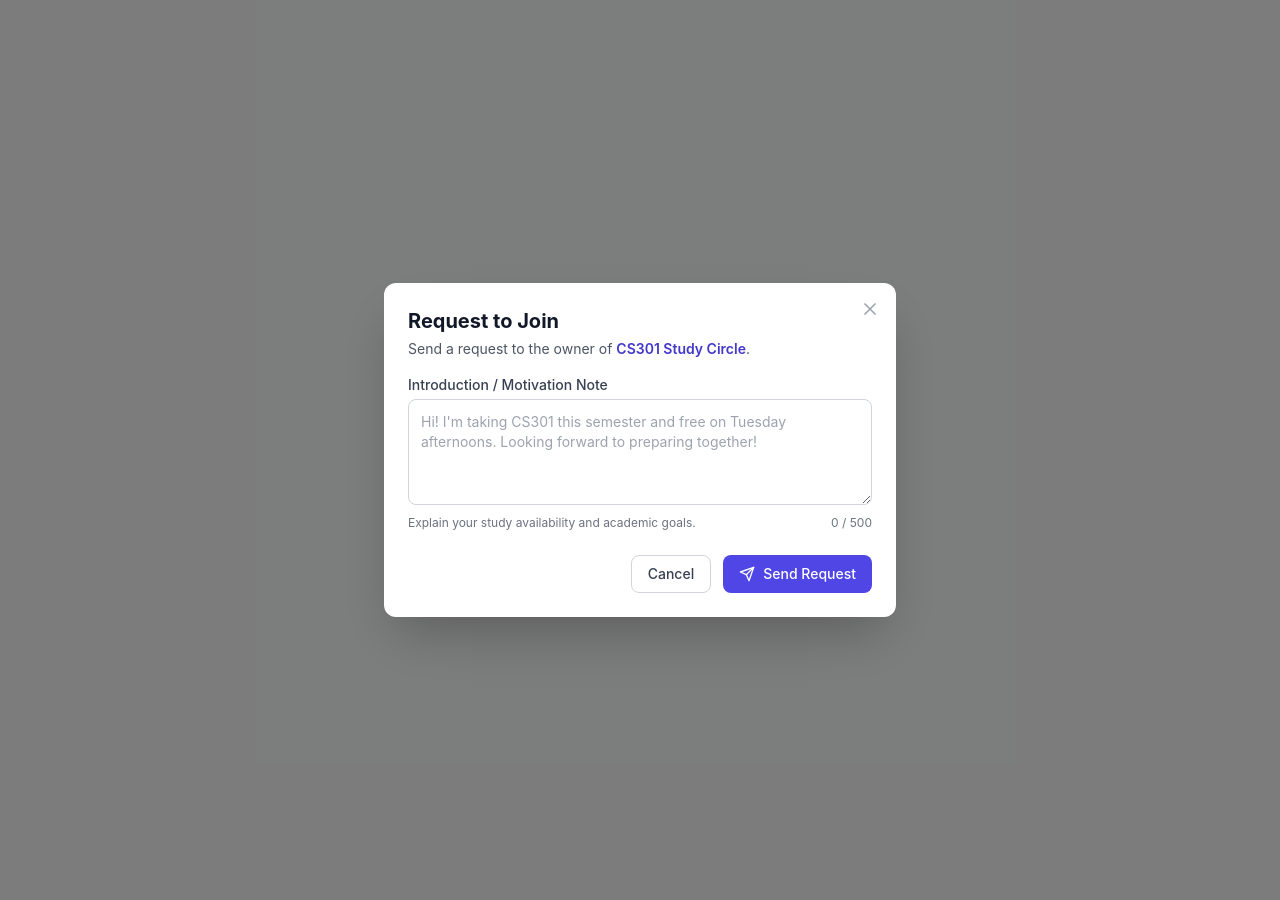
Test: Member 1 Frontend Components (Sprint 2) › JoinRequestModal › tracks character counter when user types introduction note
Replace the text in the text box with placeholder "Hi! I'm taking CS301" with "Looking for study buddies!" at (640, 452), box x1=408 y1=399 x2=872 y2=505
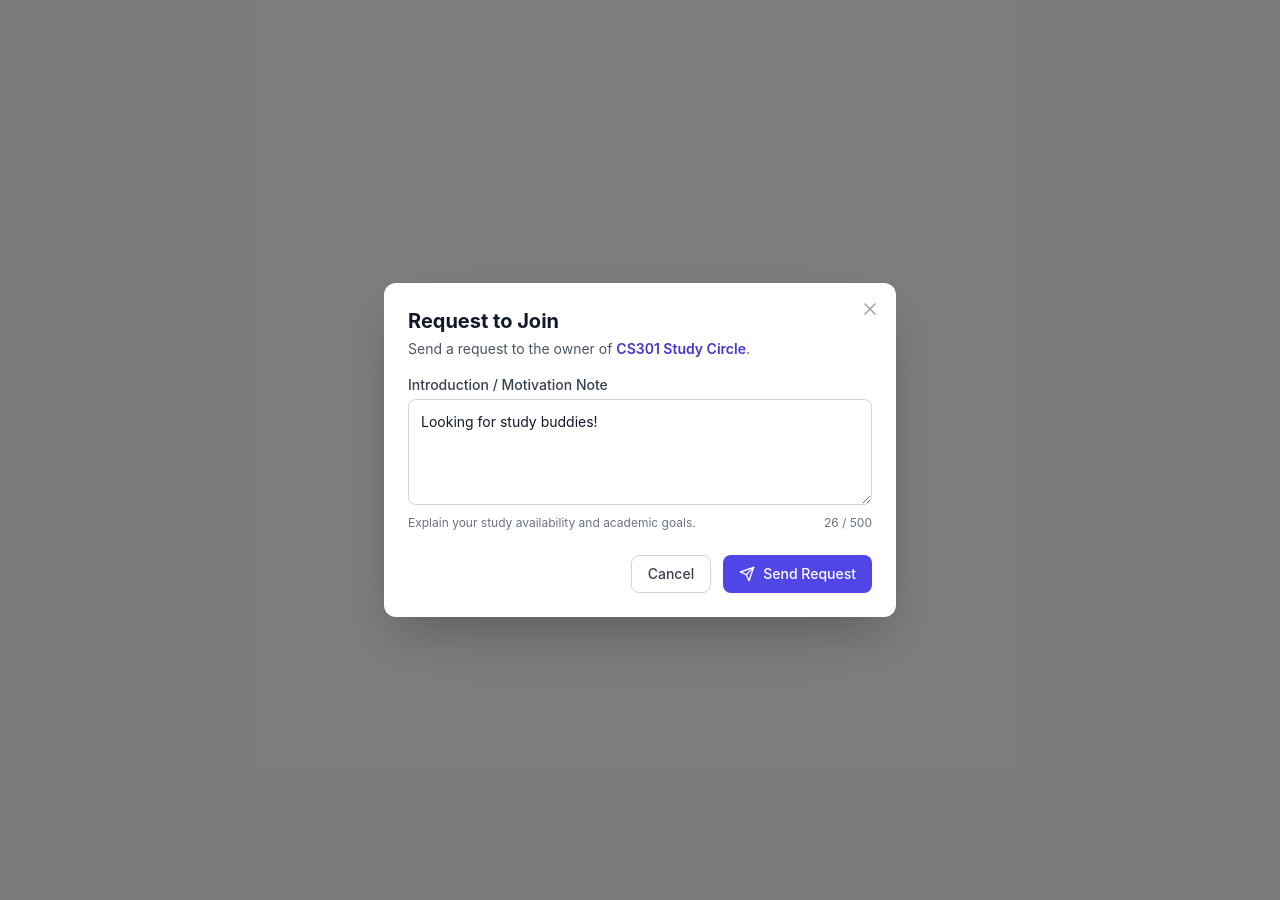
Now the text "26 / 500" is shown, box x1=824 y1=515 x2=872 y2=531
